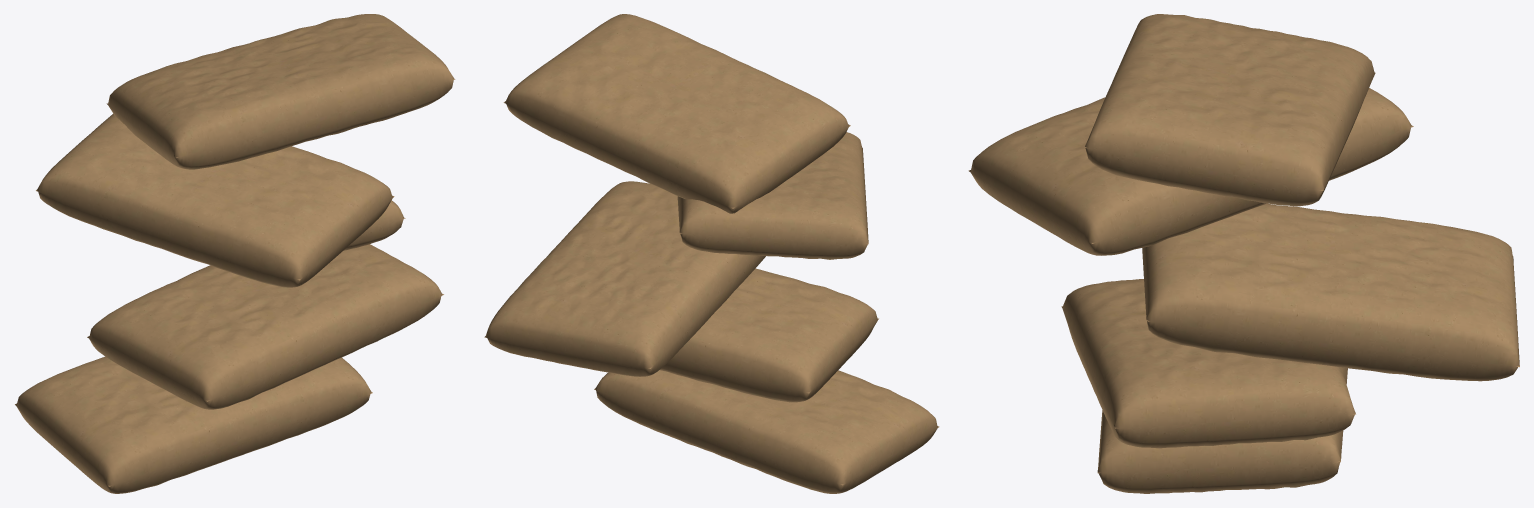
Rendered from EST-CIM-001_anim.glb.
The picture shows the model from 3 angles, left to right: view 1: azimuth 30°, elevation 25°; view 2: azimuth 150°, elevation 25°; view 3: azimuth 270°, elevation 25°; orthographic projection. The views are drawn at different scales.
Visible parts, largest first — view 1: EST-CIM-001_anim3, EST-CIM-001_anim4, EST-CIM-001_anim1, EST-CIM-001_anim0, EST-CIM-001_anim2; view 2: EST-CIM-001_anim4, EST-CIM-001_anim2, EST-CIM-001_anim0, EST-CIM-001_anim1, EST-CIM-001_anim3; view 3: EST-CIM-001_anim2, EST-CIM-001_anim4, EST-CIM-001_anim1, EST-CIM-001_anim3, EST-CIM-001_anim0.
Part boxes in pixels (x1=…): EST-CIM-001_anim3: x1=36, y1=114, x2=394, y2=287; EST-CIM-001_anim4: x1=106, y1=14, x2=455, y2=169; EST-CIM-001_anim1: x1=87, y1=244, x2=443, y2=409; EST-CIM-001_anim0: x1=15, y1=356, x2=372, y2=493; EST-CIM-001_anim2: x1=344, y1=200, x2=405, y2=250; EST-CIM-001_anim4: x1=503, y1=14, x2=850, y2=213; EST-CIM-001_anim2: x1=484, y1=181, x2=765, y2=376; EST-CIM-001_anim0: x1=594, y1=370, x2=939, y2=493; EST-CIM-001_anim1: x1=660, y1=268, x2=878, y2=402; EST-CIM-001_anim3: x1=677, y1=132, x2=868, y2=259; EST-CIM-001_anim2: x1=1142, y1=203, x2=1519, y2=381; EST-CIM-001_anim4: x1=1084, y1=14, x2=1375, y2=206; EST-CIM-001_anim1: x1=1061, y1=279, x2=1355, y2=448; EST-CIM-001_anim3: x1=968, y1=88, x2=1413, y2=255; EST-CIM-001_anim0: x1=1097, y1=367, x2=1347, y2=493.
Size of the model in its own units: 0.8591 by 0.8373 by 0.9055.
Materials: 1 (1 with a texture image).
